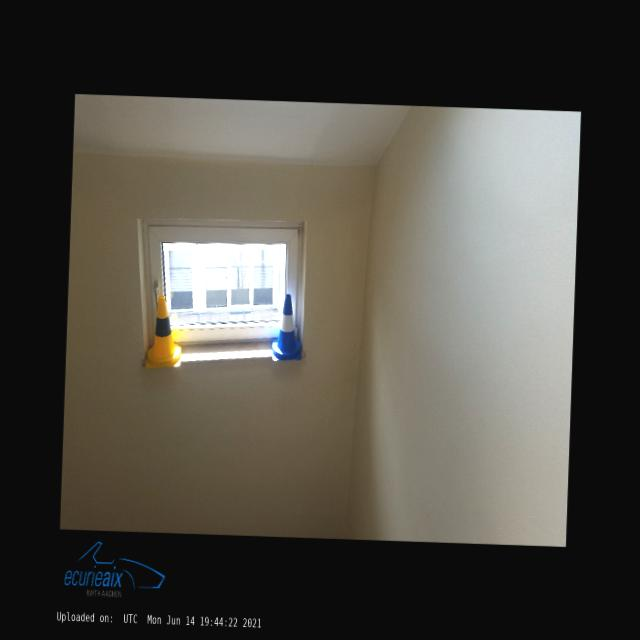blue_cone: (270, 294, 303, 362)
yellow_cone: (144, 294, 183, 370)
